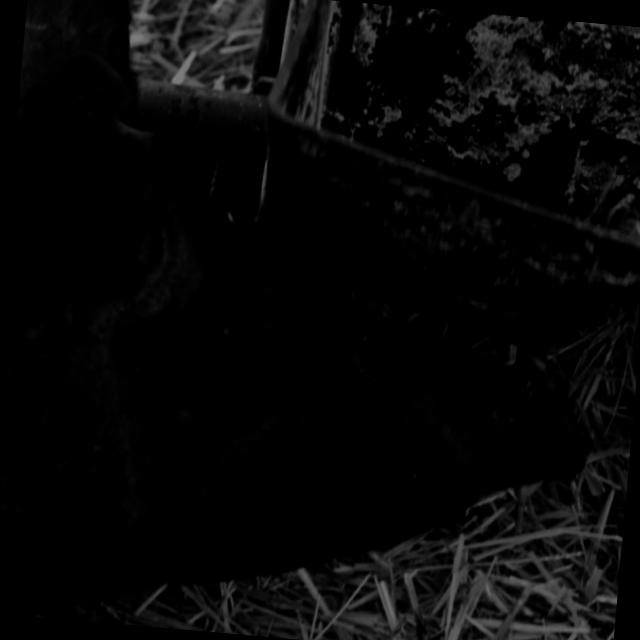pig: (0, 0, 584, 611)
